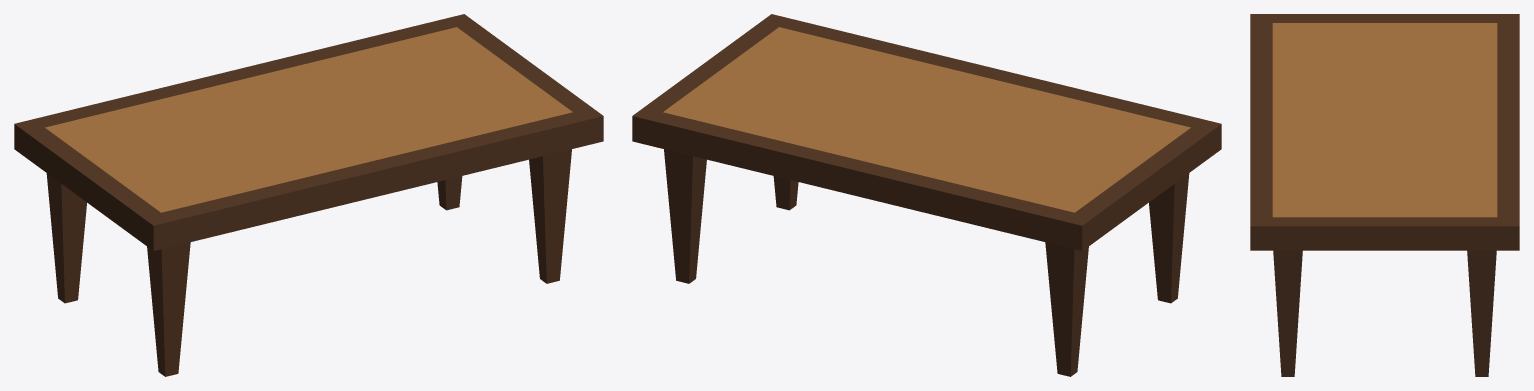
Rendered from Rectangle Table.fbx.
3 renders of one model, left to right at view 1: azimuth 30°, elevation 25°; view 2: azimuth 150°, elevation 25°; view 3: azimuth 270°, elevation 25°, orthographic. The views are drawn at different scales.
Parts seen in each view (by area): view 1: Rectangle Table; view 2: Rectangle Table; view 3: Rectangle Table.
Boxes of the visible parts, bbox=[...] form: Rectangle Table: bbox=[14, 14, 603, 376]; Rectangle Table: bbox=[632, 14, 1221, 376]; Rectangle Table: bbox=[1250, 14, 1519, 376].
Size of the model in its own units: 2.29 by 0.8245 by 1.23.
